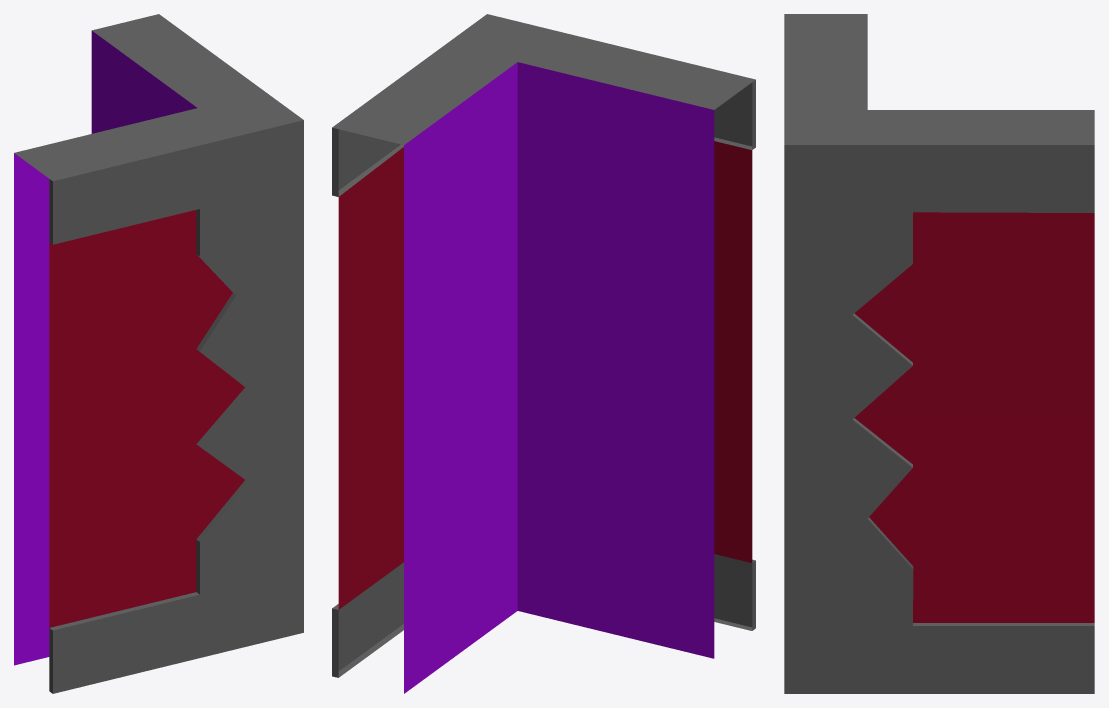
The model's file is Wall_Corner_X_1x2.fbx.
3 renders of one model, left to right at view 1: azimuth 30°, elevation 25°; view 2: azimuth 150°, elevation 25°; view 3: azimuth 270°, elevation 25°, orthographic. The views are drawn at different scales.
Parts seen in each view (by area): view 1: Wall_Corner_1x5; view 2: Wall_Corner_1x5; view 3: Wall_Corner_1x5.
Part boxes in pixels (x1,y1,x2,y2): Wall_Corner_1x5: [14, 14, 303, 693]; Wall_Corner_1x5: [332, 14, 755, 693]; Wall_Corner_1x5: [784, 14, 1094, 693].
Bounding box in the file's own units: 1.02 × 2 × 1.02.
